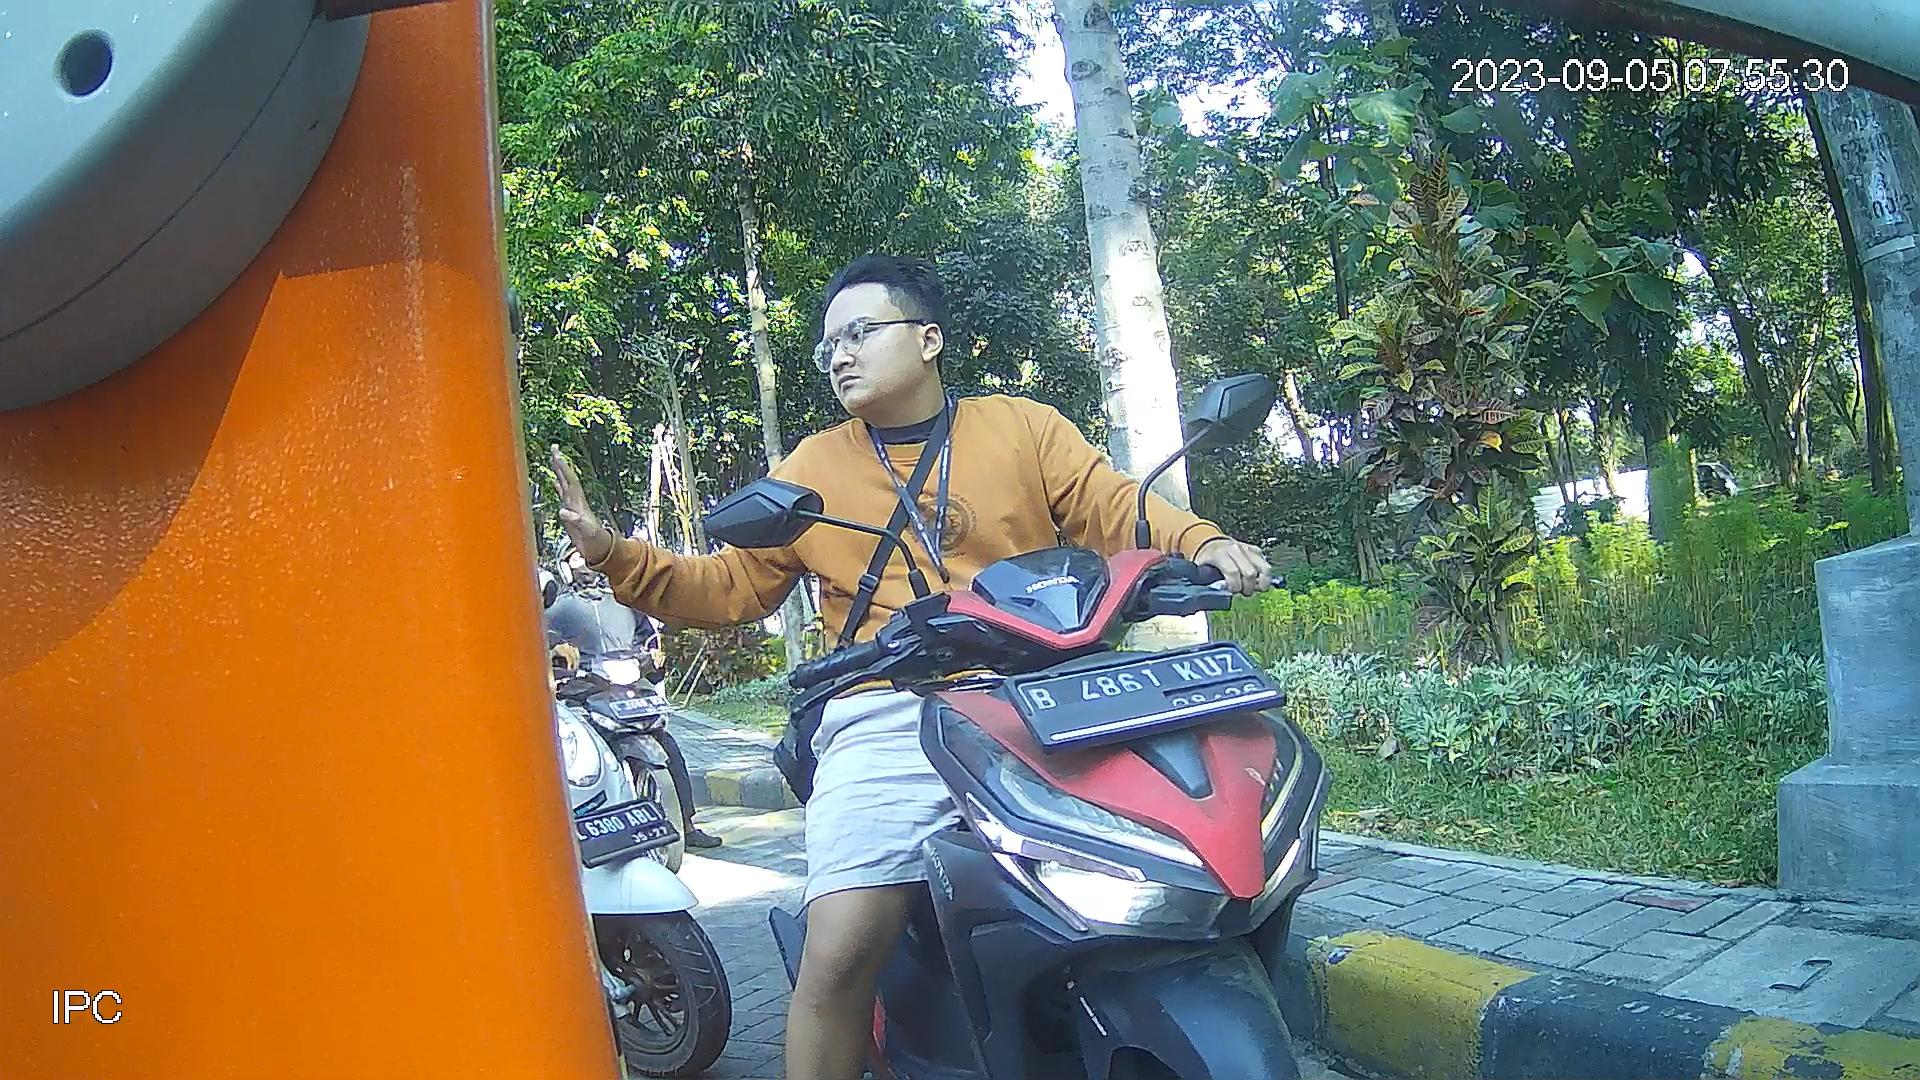plat: (1002, 637, 1291, 756), (574, 799, 679, 866)
